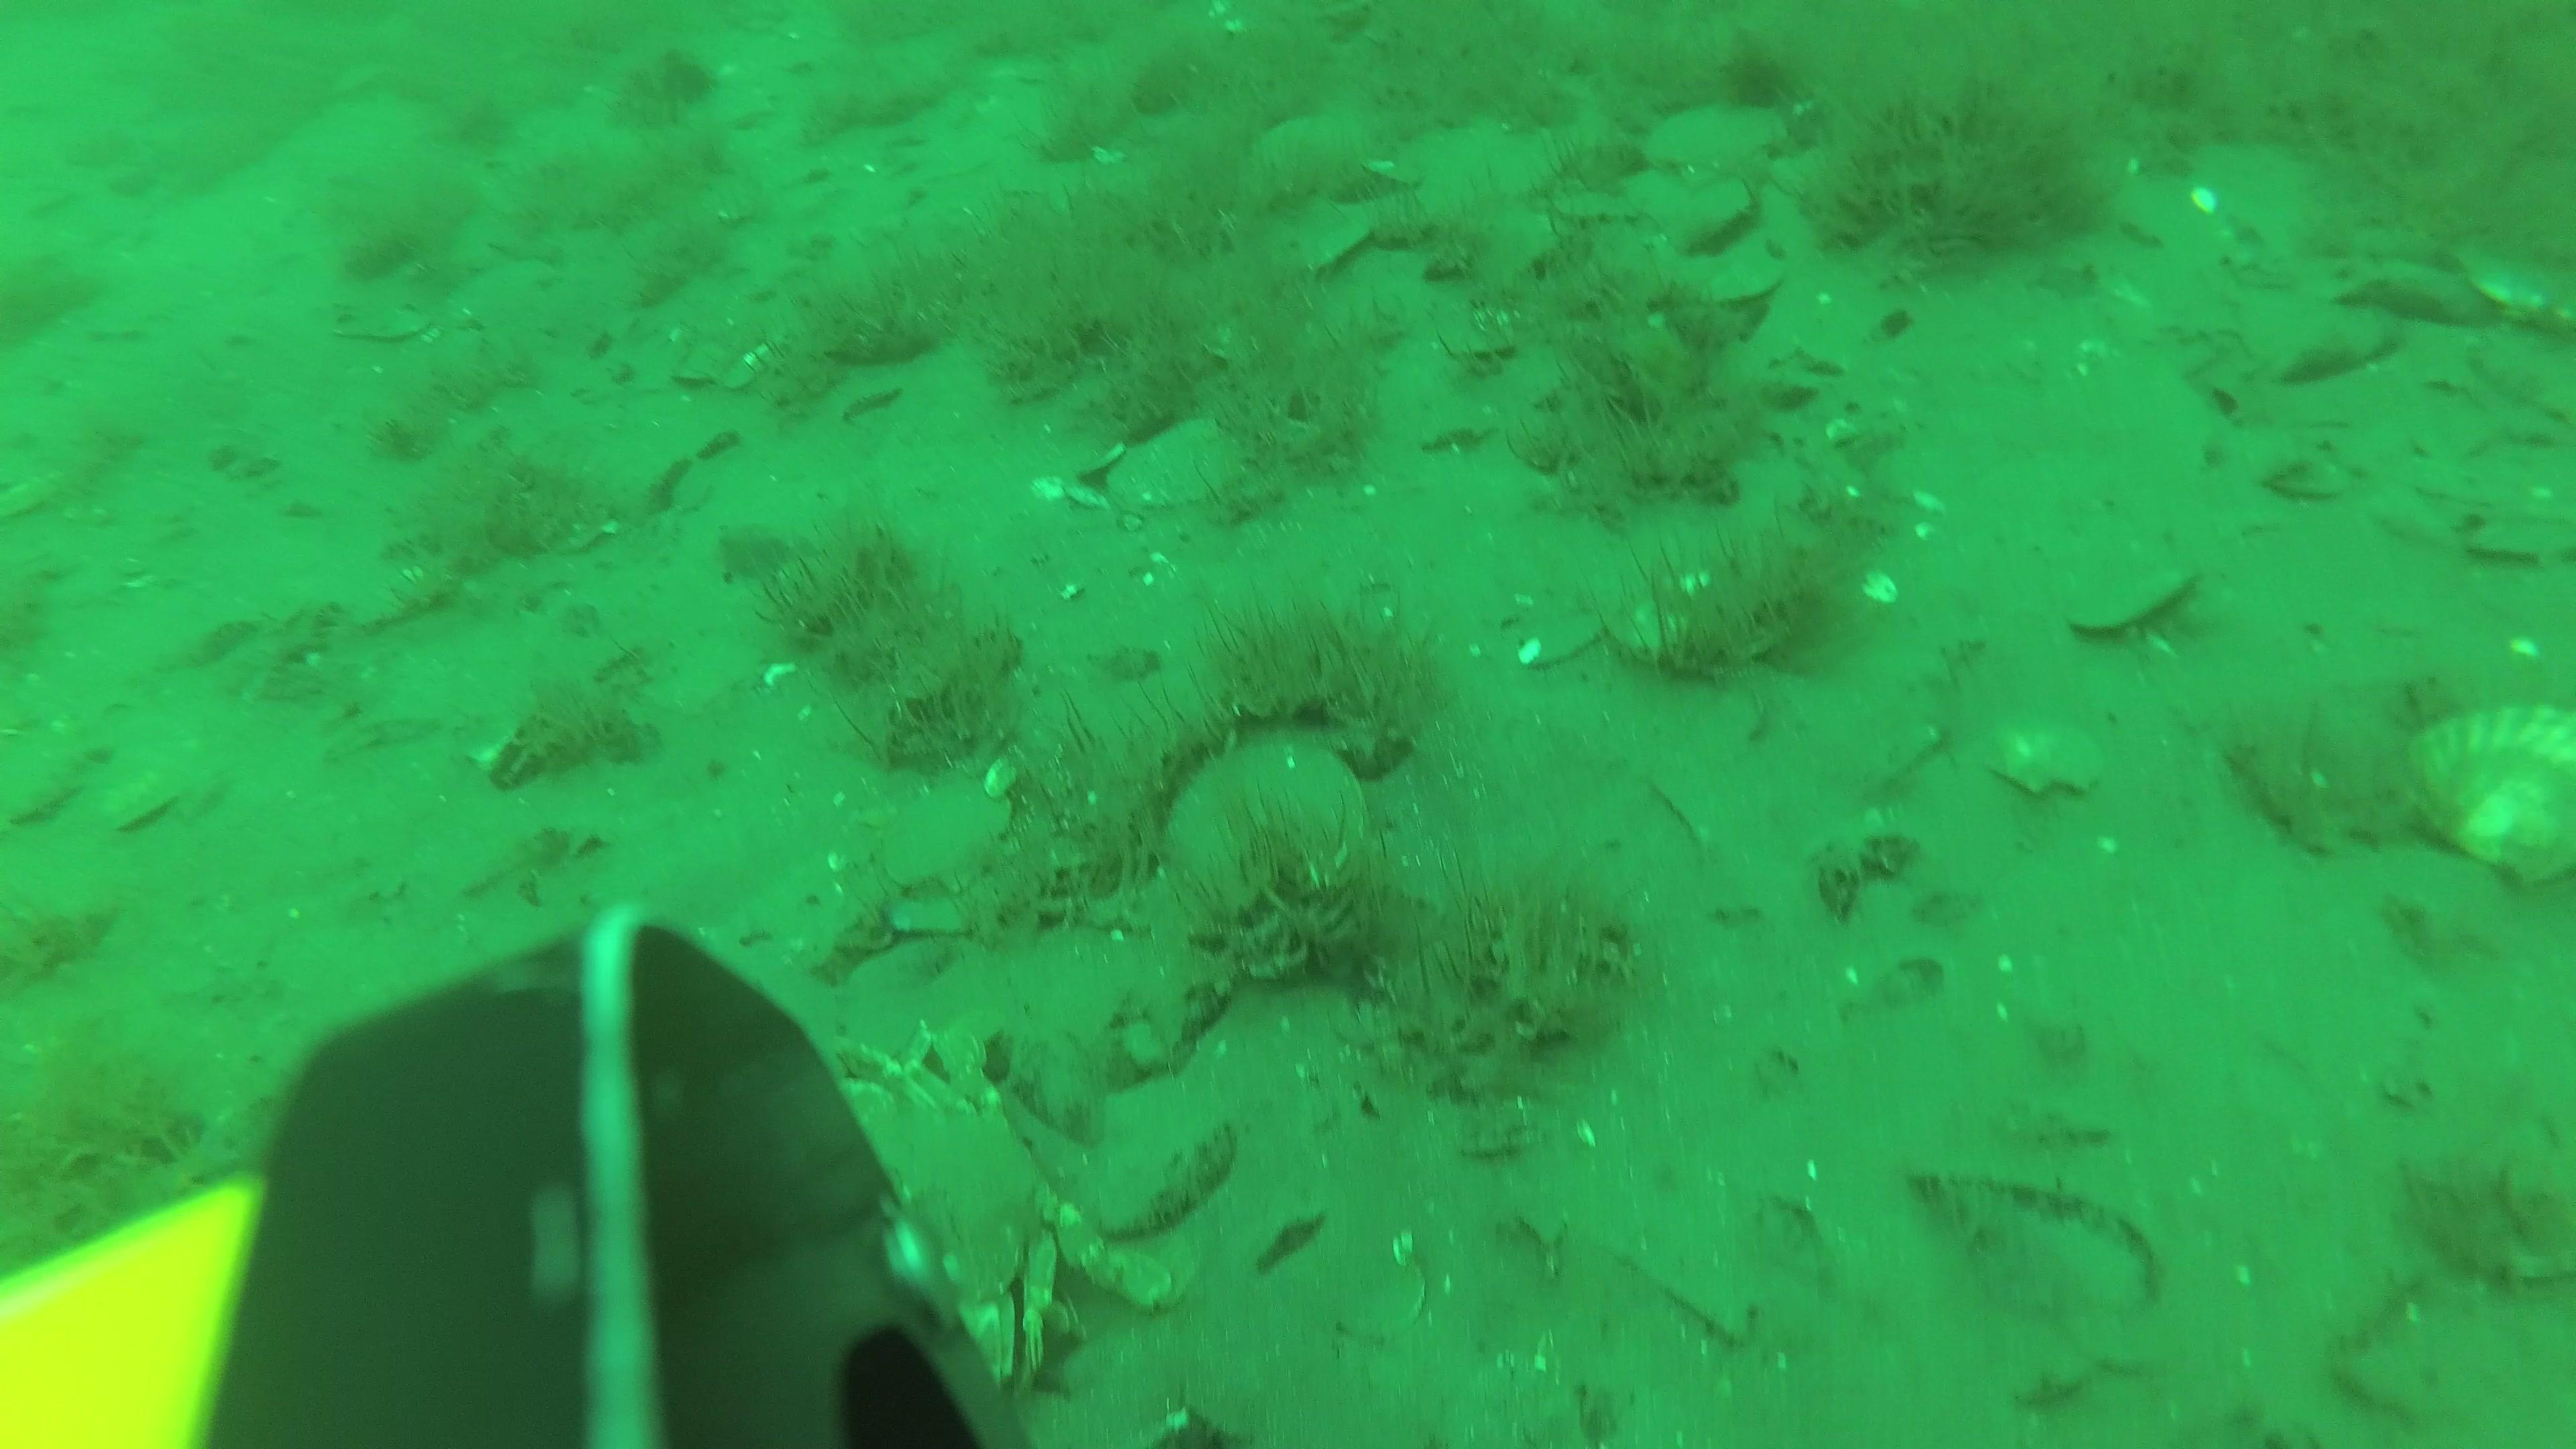scallop: (1168, 727, 1380, 920), (2411, 688, 2576, 901), (878, 778, 1024, 909), (1596, 573, 1782, 672), (1106, 403, 1256, 517), (1976, 701, 2120, 805), (1253, 103, 1382, 203), (1649, 104, 1790, 182), (1327, 1256, 1433, 1353), (2072, 570, 2196, 646), (458, 249, 566, 333), (2265, 444, 2360, 510), (2472, 515, 2576, 573)
